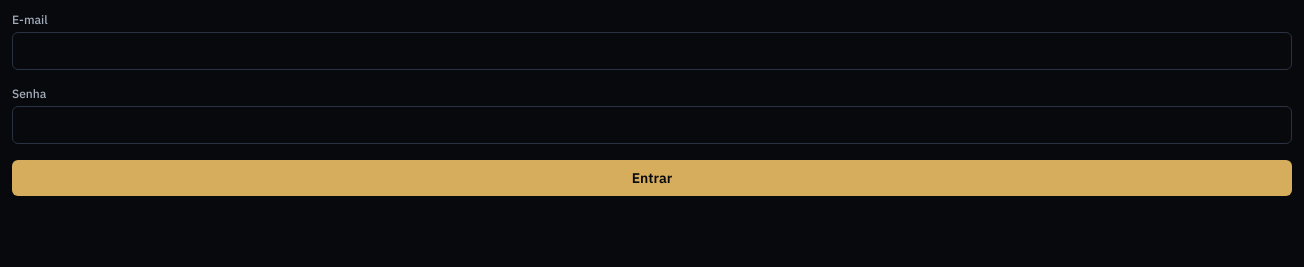
Test: FormLogin › conta bloqueada (423) mostra a mensagem
Type "admin@teste.local" into the field labelled "E-mail". click: (652, 51)
box: 12,32 -> 1292,70
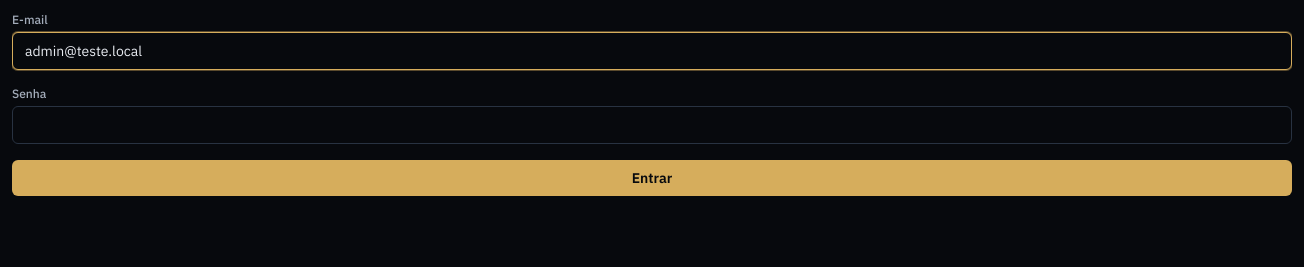
Type "senha-muito-forte" into the password field labelled "Senha". click: (652, 125)
box: 12,106 -> 1292,144
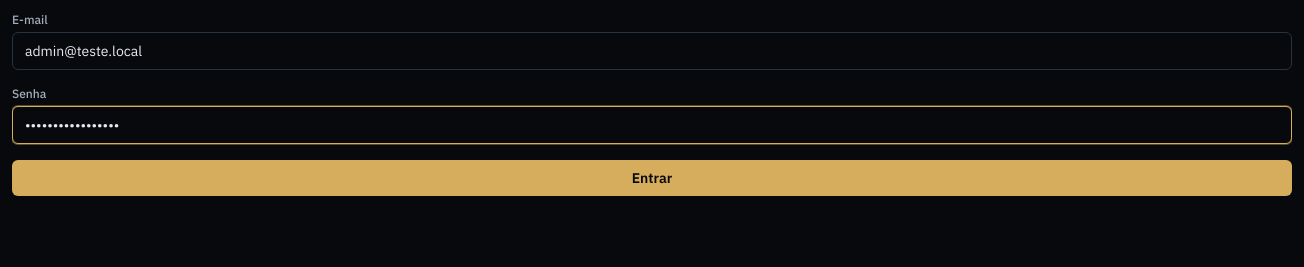
Click the button "Entrar". click: (652, 178)
box: 12,160 -> 1292,196
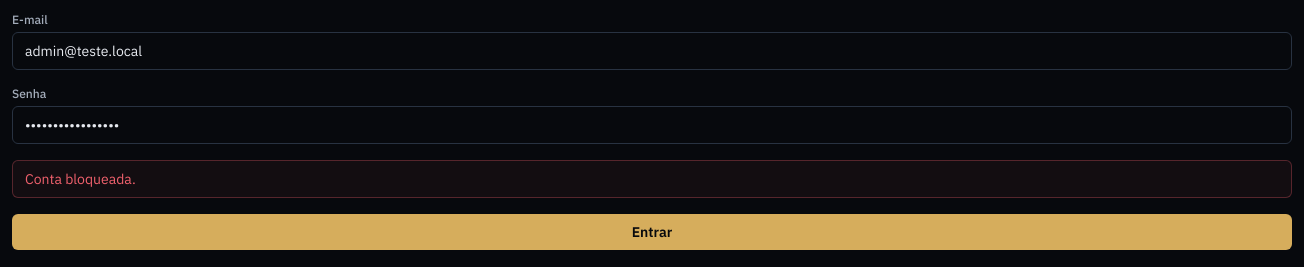
Result: the message reads "Conta bloqueada." at 25,170 -> 136,188
